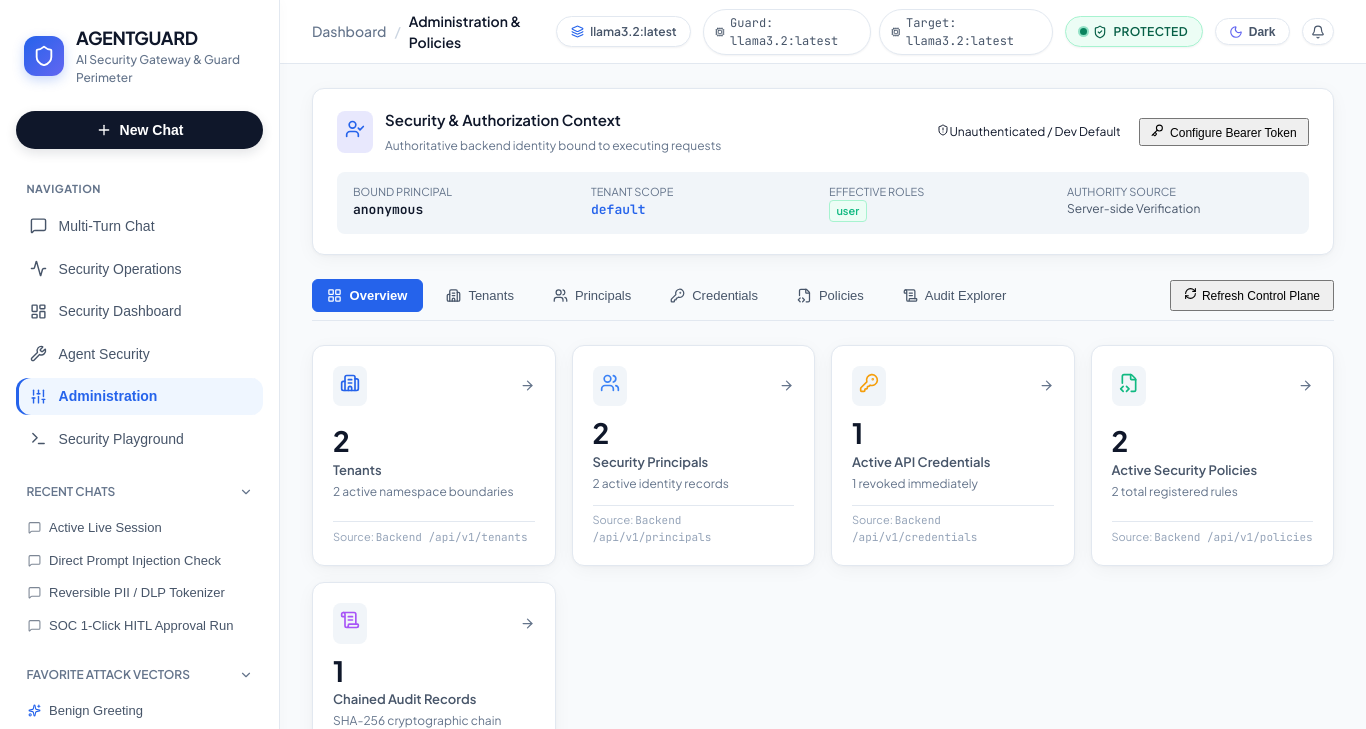
it: AgentGuard Frontend v0.5 — Administration & Audit Suite › 3. Tenant management renders real tenant records without fabrication
The width and height of the screenshot is (1366, 729).
Check: the heading "Security & Authorization Context" is shown, box left=385, top=110, right=621, bottom=129
Click the tab "Tenants" at {"x": 480, "y": 295}, box left=431, top=279, right=529, bottom=312
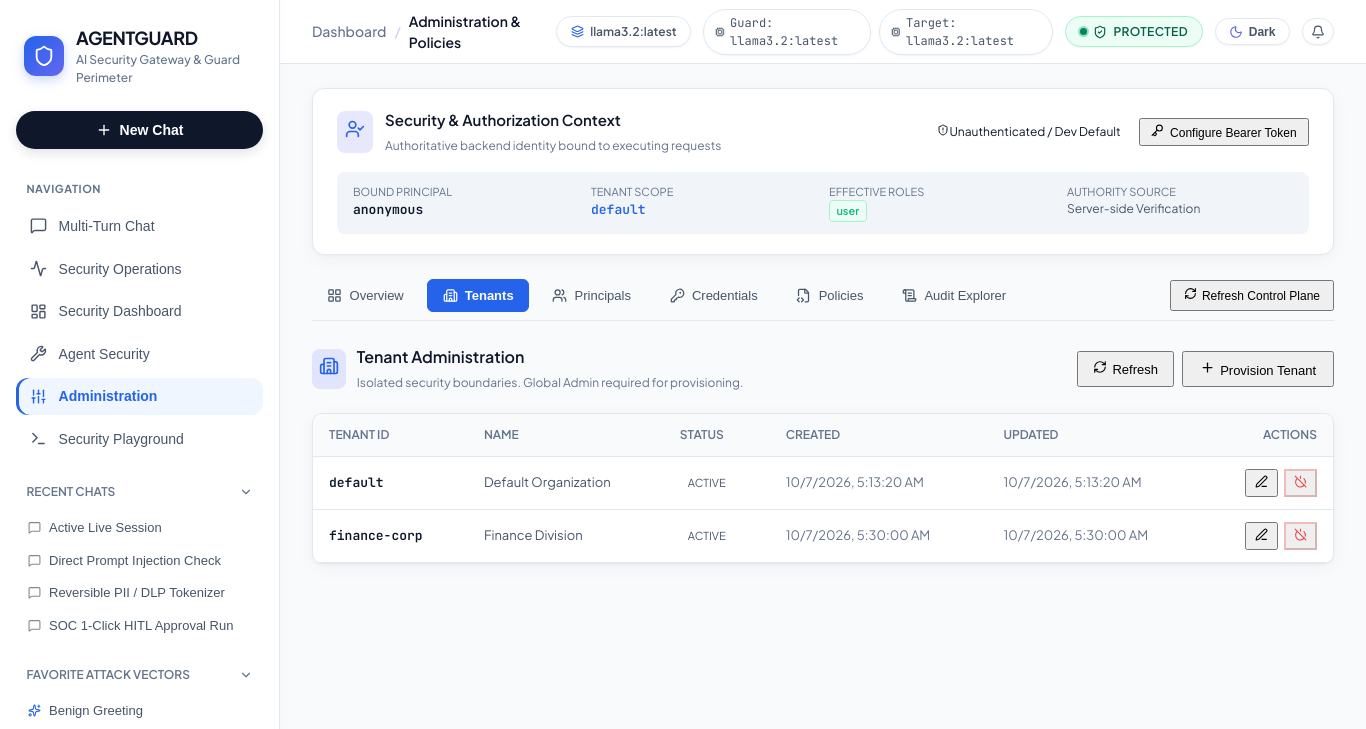
Check: the text "Default Organization" is shown, box left=468, top=456, right=664, bottom=509
Check: the text "finance-corp" is shown, box left=329, top=527, right=423, bottom=544
Check: the text "Finance Division" is shown, box left=468, top=509, right=664, bottom=562
